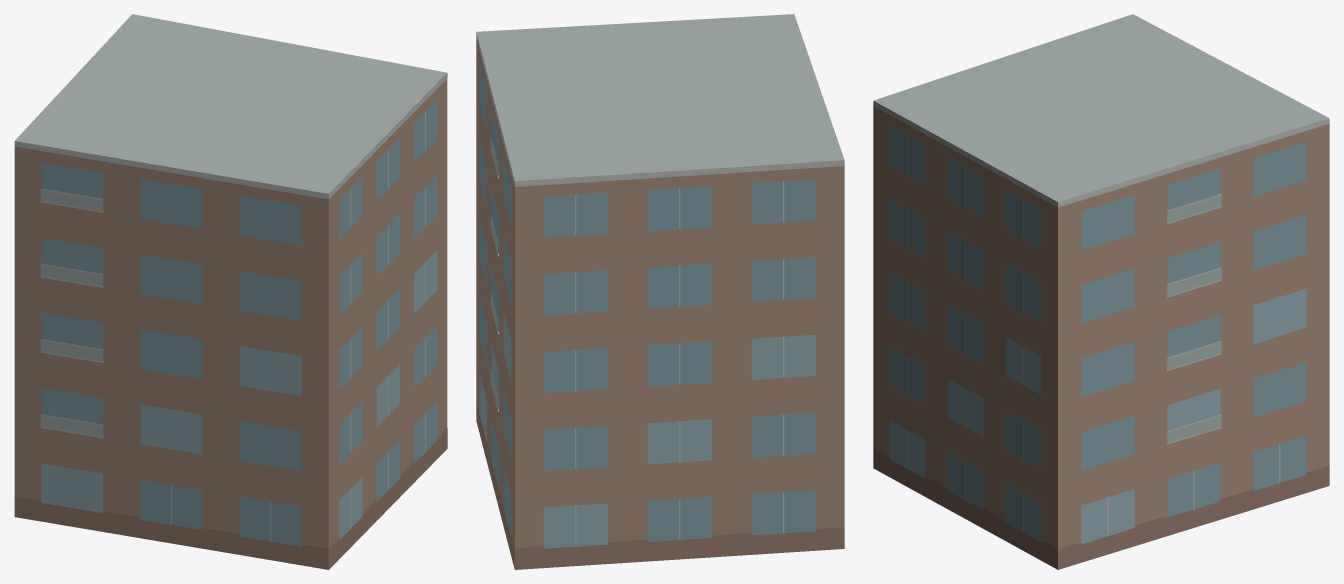
File: survey-upis-32826696.glb
3 renders of one model, left to right at view 1: azimuth 30°, elevation 25°; view 2: azimuth 150°, elevation 25°; view 3: azimuth 270°, elevation 25°, orthographic. The views are drawn at different scales.
Visible parts, largest first — view 1: survey-upis-32826696.tmp; view 2: survey-upis-32826696.tmp; view 3: survey-upis-32826696.tmp.
Part boxes in pixels (x1,y1,x2,y2): survey-upis-32826696.tmp: (14,14,447,569); survey-upis-32826696.tmp: (476,14,844,569); survey-upis-32826696.tmp: (873,14,1329,569).
Size of the model in its own units: 18.24 by 16.6 by 18.68.
